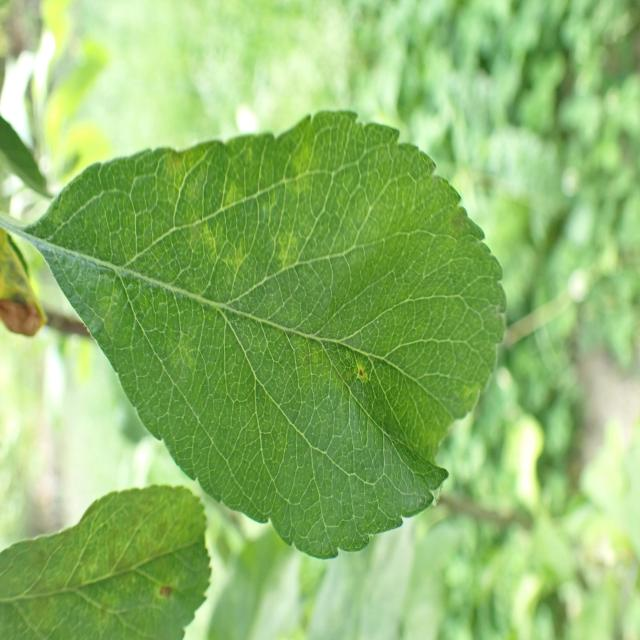scab: (55, 123, 494, 476), (0, 505, 216, 640)
